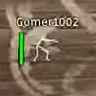hacks_2: (16, 16, 79, 65)
